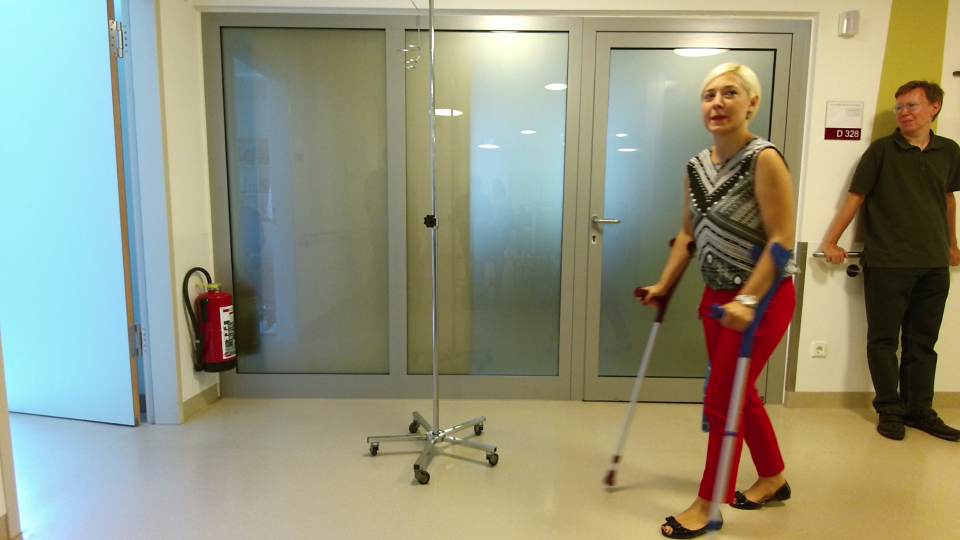crutches: (598, 56, 807, 534)
